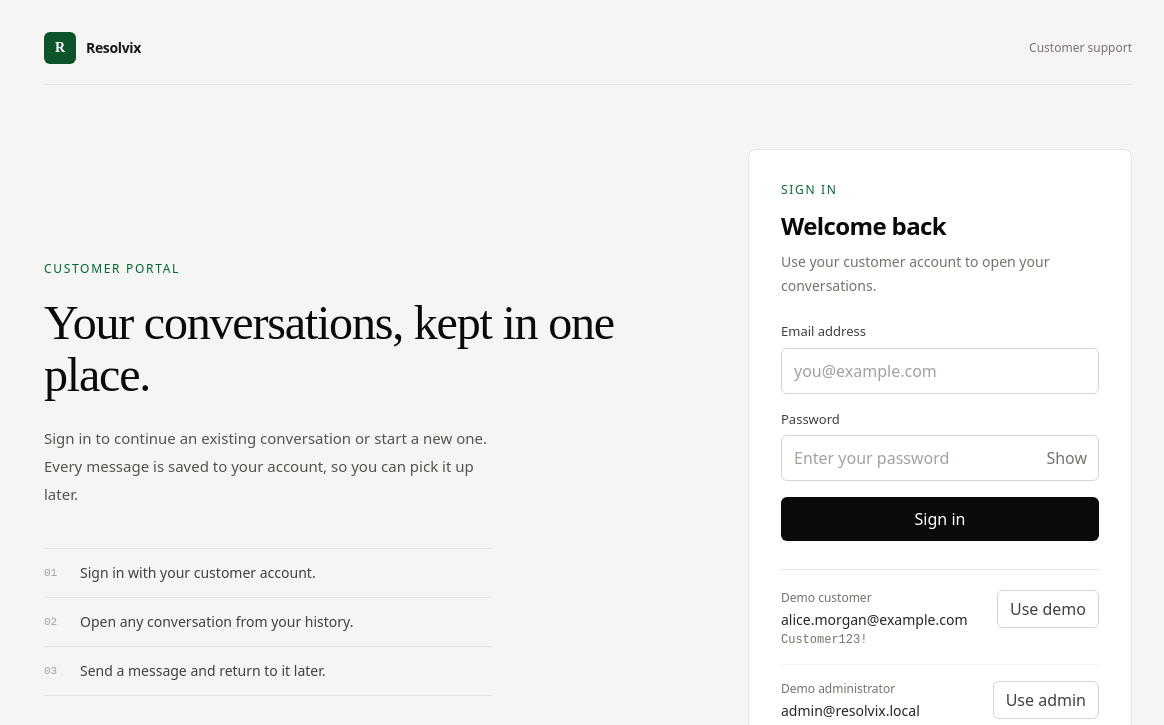
Test case: Login › keeps an administrator's admin deep link
Step 1. Click the button "Use admin" → click(1046, 700), box [993,681,1099,719]
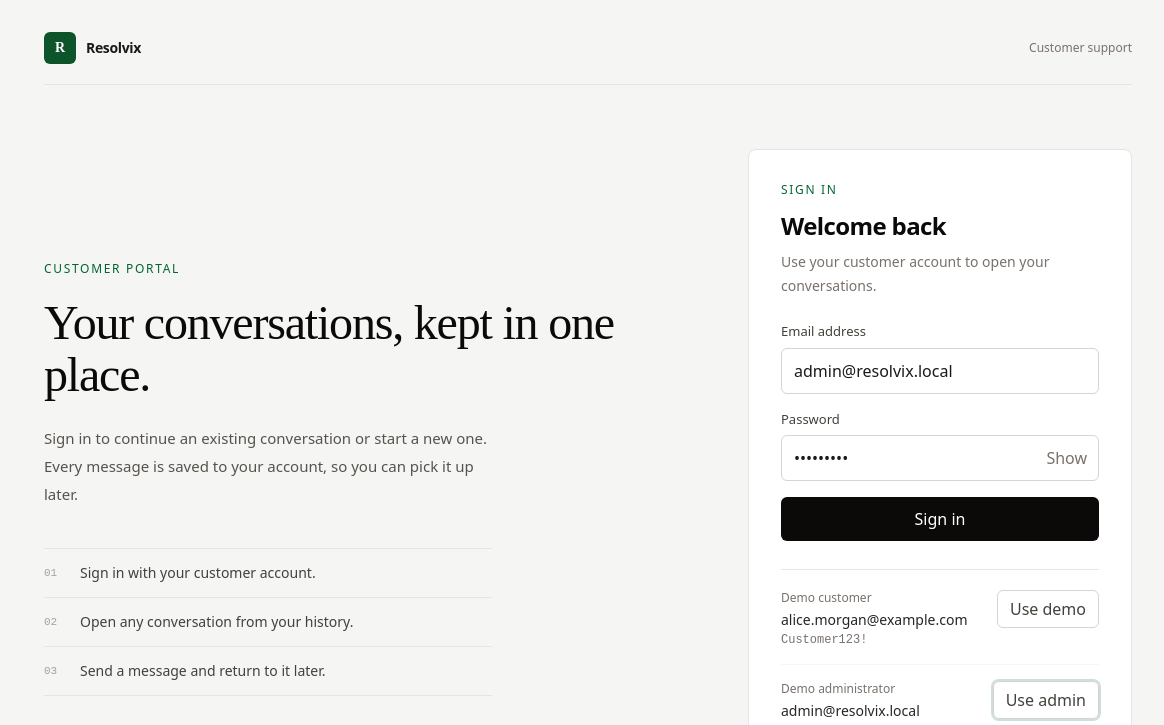
Step 2. Click the button "Sign in" → click(940, 519), box [781,497,1099,541]
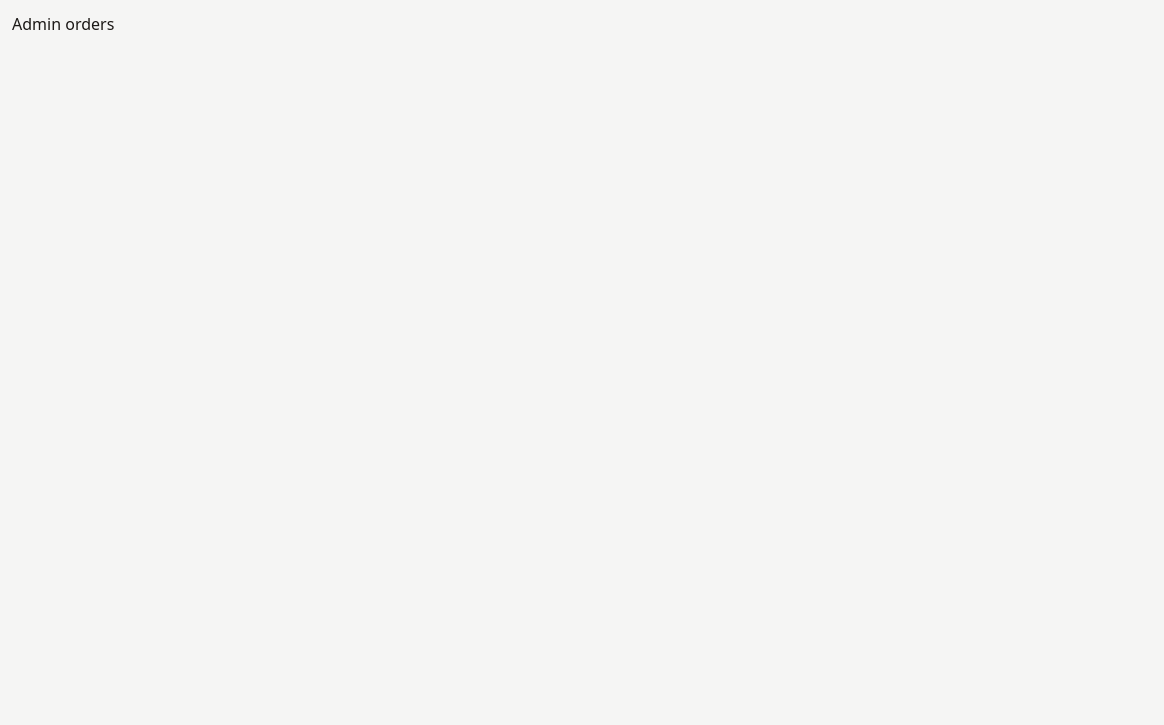
Expected: the text "Admin orders" is shown, [12,13,114,35]
